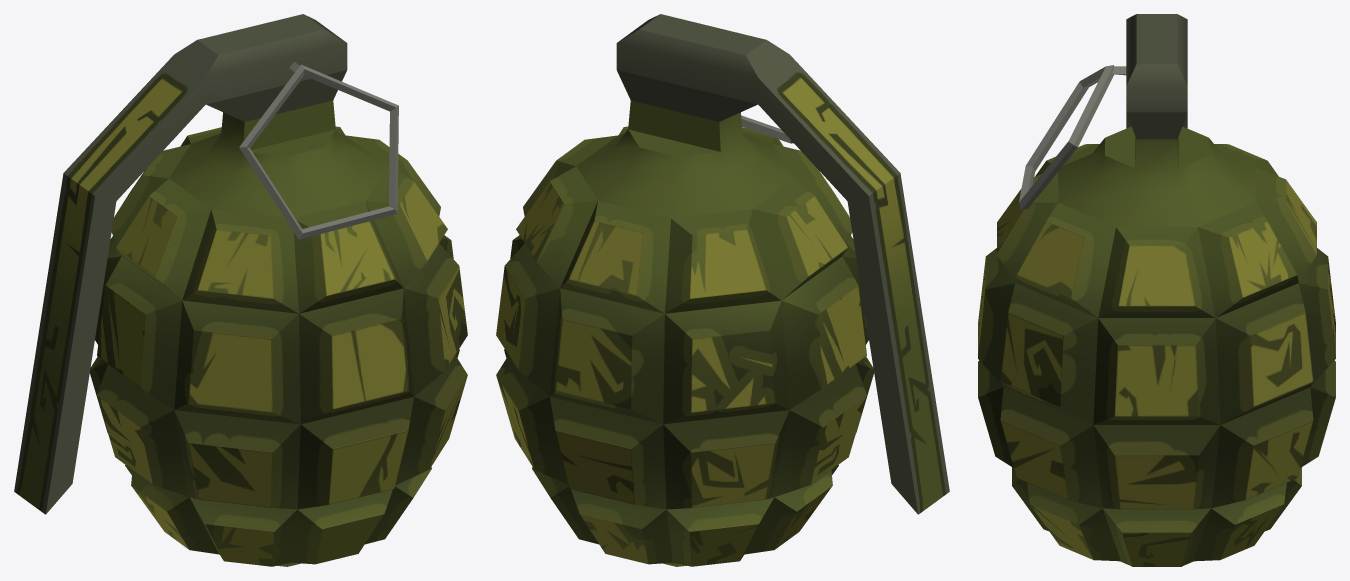
The model's file is Grenade.fbx.
The picture shows the model from 3 angles, left to right: view 1: azimuth 30°, elevation 25°; view 2: azimuth 150°, elevation 25°; view 3: azimuth 270°, elevation 25°; orthographic projection. The views are drawn at different scales.
Visible parts, largest first — view 1: grenadeBody, grenadeCap, ring; view 2: grenadeBody, grenadeCap; view 3: grenadeBody, grenadeCap, ring.
Part boxes in pixels (box(x1,y1,x2,y2)): grenadeBody: box(90, 100, 467, 566); grenadeCap: box(14, 14, 347, 514); ring: box(239, 61, 398, 239); grenadeBody: box(496, 100, 873, 566); grenadeCap: box(616, 14, 949, 514); grenadeBody: box(978, 126, 1335, 566); grenadeCap: box(1126, 14, 1187, 139); ring: box(1019, 65, 1126, 210).
Bounding box in the file's own units: 1.51 × 1.79 × 1.18.
